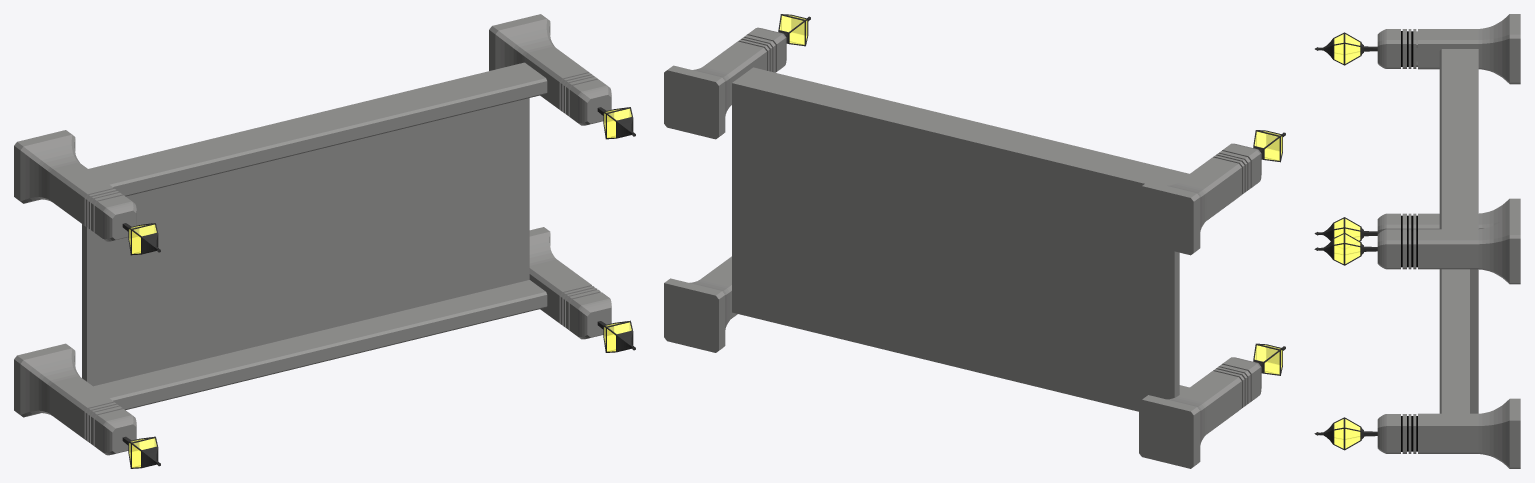
File: Bridge_01.fbx
3 views of the same model, side by side, from view 1: azimuth 30°, elevation 25°; view 2: azimuth 150°, elevation 25°; view 3: azimuth 270°, elevation 25° (orthographic). The views are drawn at different scales.
Visible parts, largest first — view 1: Bridge; view 2: Bridge; view 3: Bridge.
Part boxes in pixels (x1,y1,x2,y2): Bridge: [14, 14, 635, 468]; Bridge: [664, 14, 1285, 468]; Bridge: [1314, 14, 1520, 468].
Size of the model in its own units: 626 by 306 by 244.
